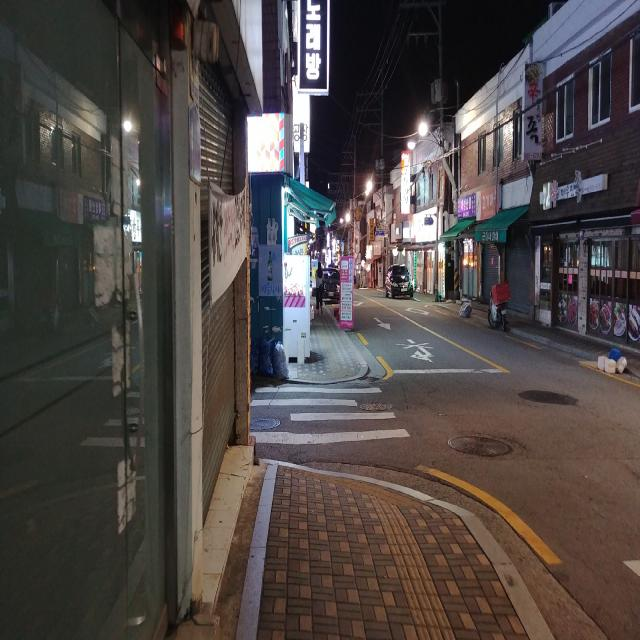횡단보도: (250, 386, 412, 446)
